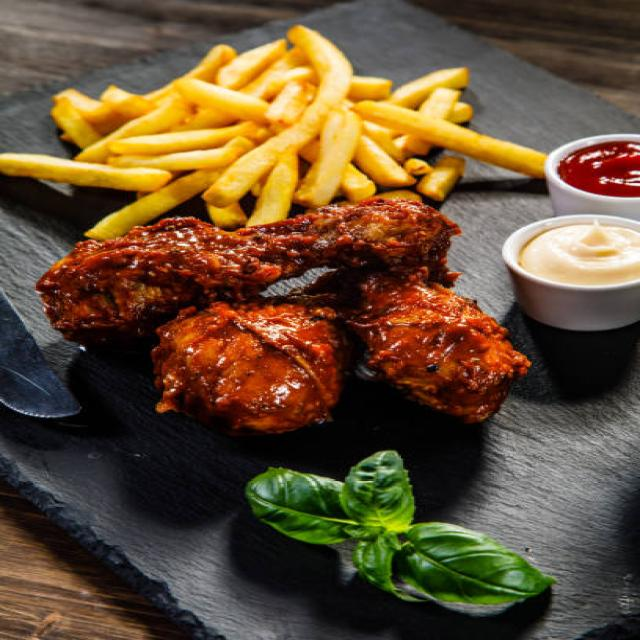CHICKEN FRY: (38, 200, 529, 434)
SAUCE: (560, 143, 638, 196)
